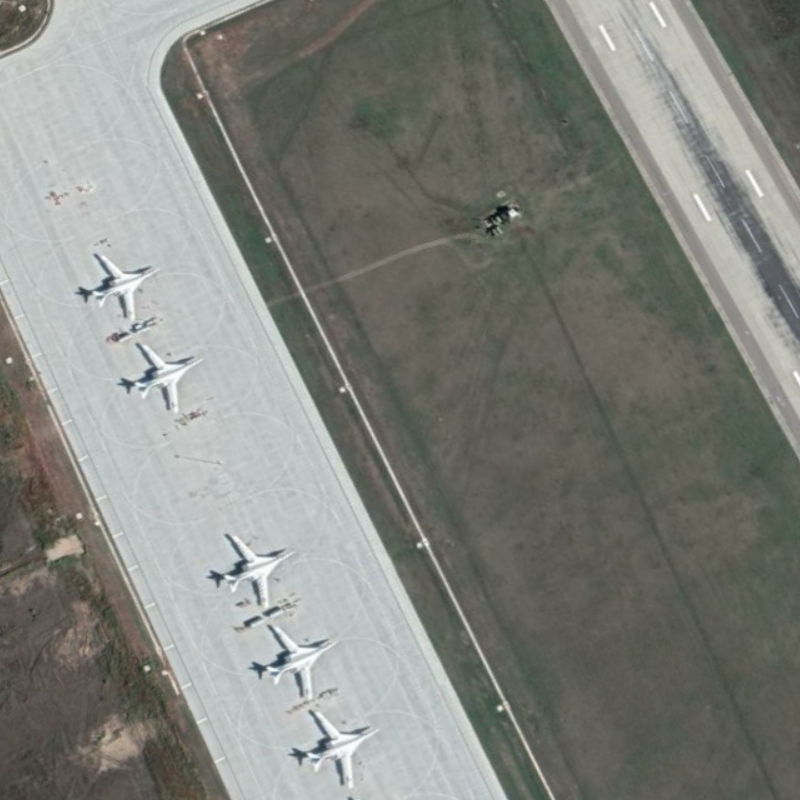A6: (302, 706, 381, 791), (263, 620, 338, 705), (221, 531, 297, 611), (88, 249, 163, 325), (130, 341, 206, 416)
